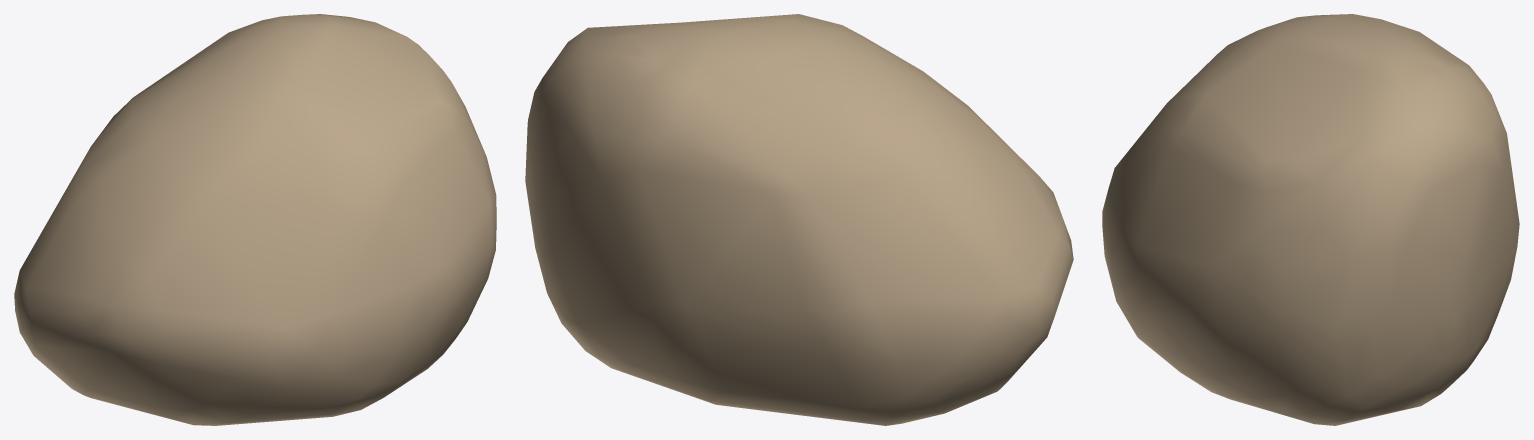
The model's file is Boulder_01_Broad.fbx.
3 renders of one model, left to right at view 1: azimuth 30°, elevation 25°; view 2: azimuth 150°, elevation 25°; view 3: azimuth 270°, elevation 25°, orthographic. The views are drawn at different scales.
Visible parts, largest first — view 1: Boulder_01_Broad_LOD1_Mesh; view 2: Boulder_01_Broad_LOD1_Mesh; view 3: Boulder_01_Broad_LOD1_Mesh.
Part boxes in pixels (x1,y1,x2,y2): Boulder_01_Broad_LOD1_Mesh: (14, 14, 496, 425); Boulder_01_Broad_LOD1_Mesh: (525, 14, 1073, 425); Boulder_01_Broad_LOD1_Mesh: (1102, 14, 1519, 425).
Bounding box in the file's own units: 2.48 × 1.54 × 1.85.
